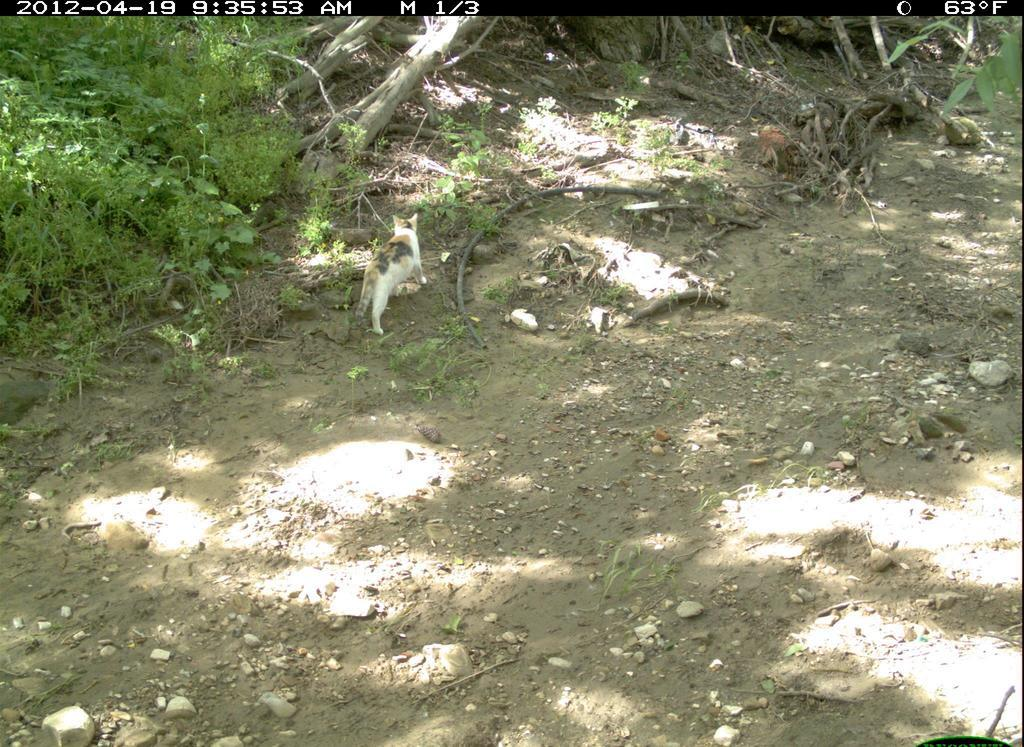cat: (353, 213, 433, 341)
